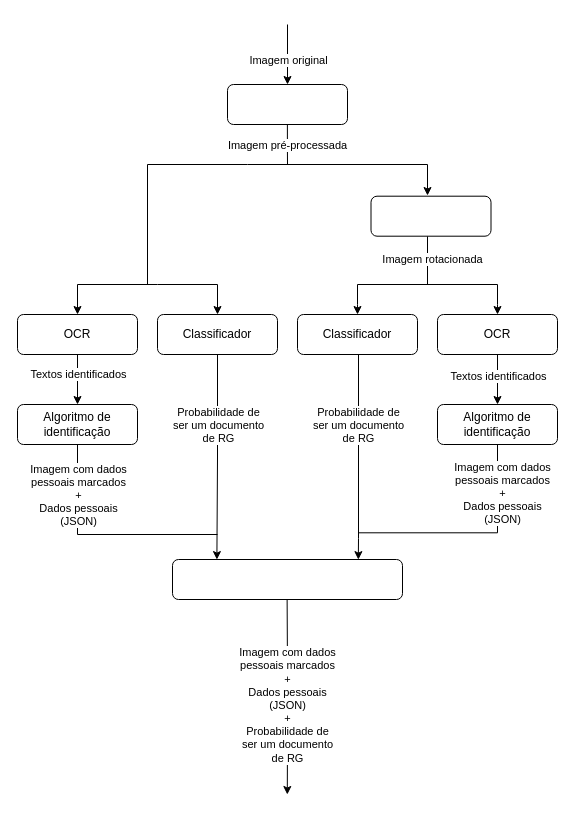
The diagram is 575 pixels wide and 820 high, and some of its shapes have lost their labels. Here are the shapes that lost their labels. From the top down, the centre of each, then its label:
At [287,104]: "Pré-processamento".
At [430,215]: "Rotação 180º".
At [287,579]: "Algoritmo de seleção de melhor conjunto de informações extraídas".
